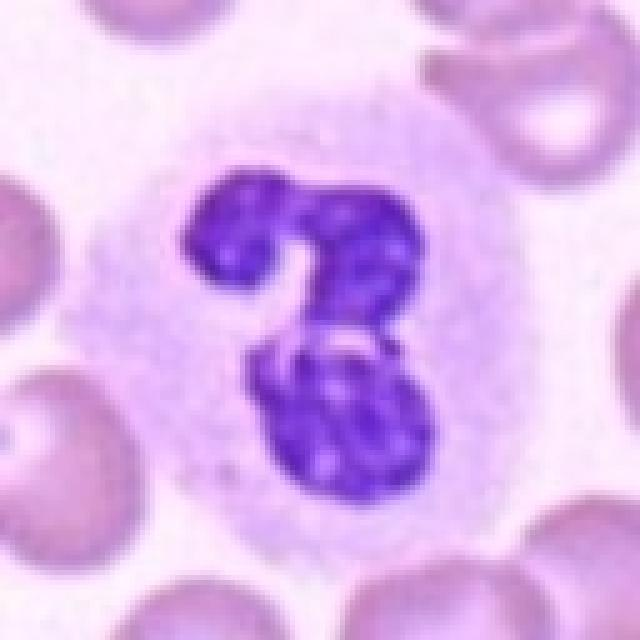neutro: (95, 20, 549, 562)
